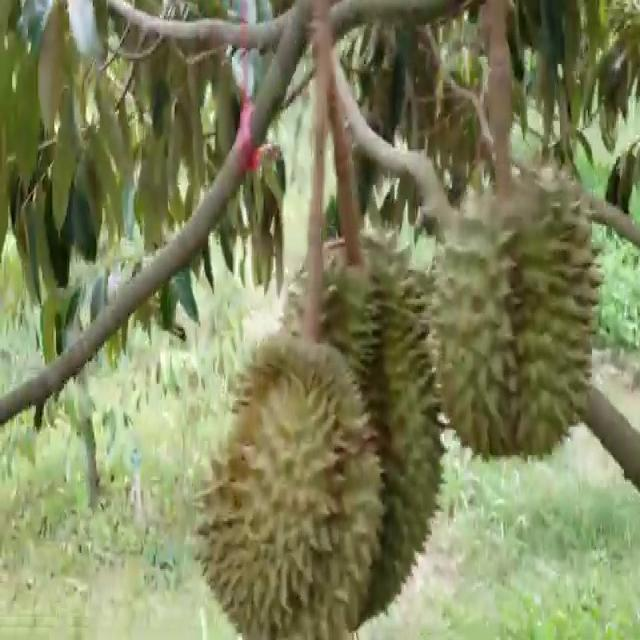durian: (267, 222, 451, 627), (188, 322, 386, 638), (426, 158, 603, 468)
